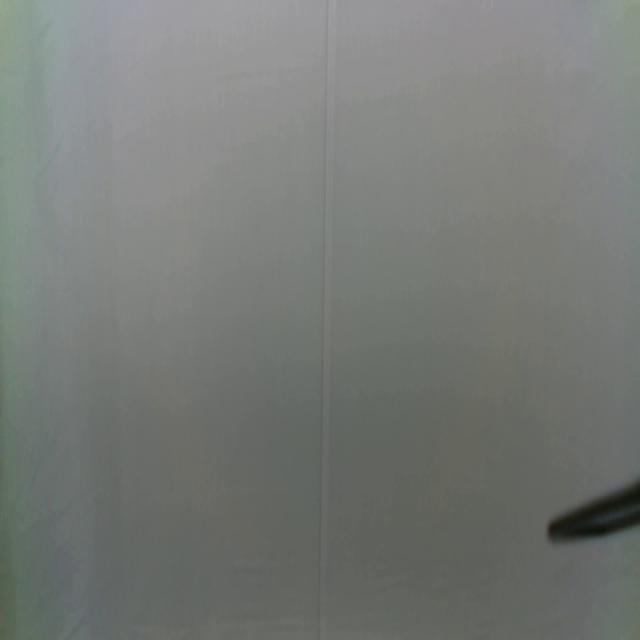crease: (316, 0, 338, 640)
